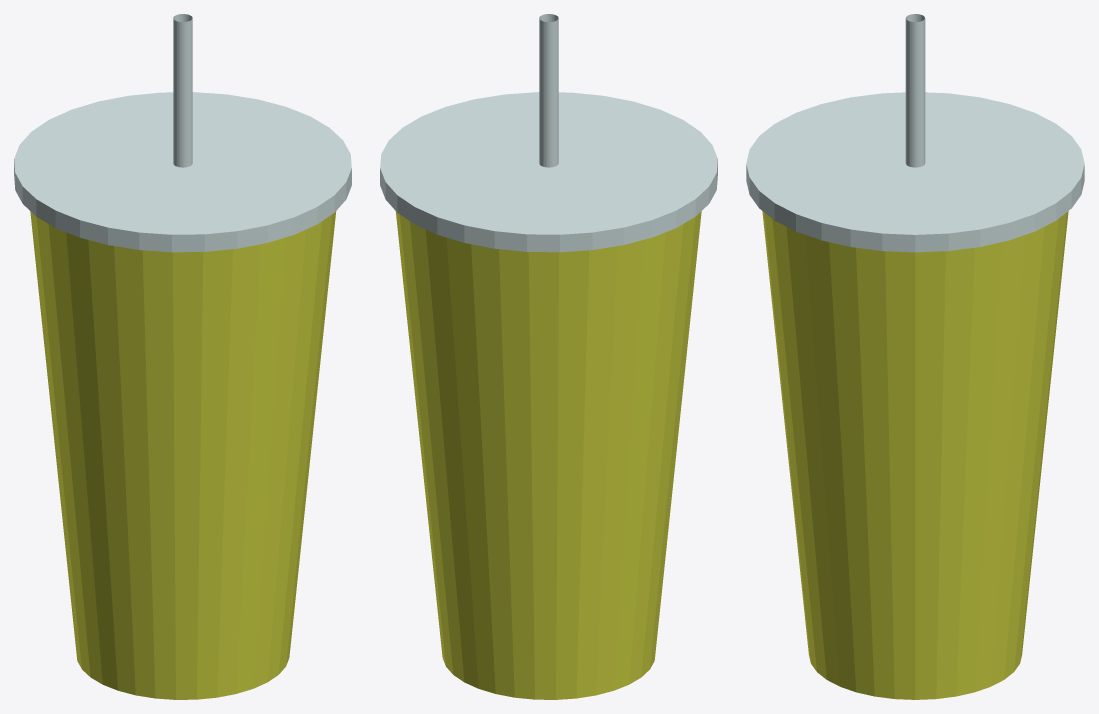
File: SodaMediana.glb
3 views of the same model, side by side, from view 1: azimuth 30°, elevation 25°; view 2: azimuth 150°, elevation 25°; view 3: azimuth 270°, elevation 25° (orthographic).
Parts seen in each view (by area): view 1: Cylinder, Cylinder.001, Cylinder.002; view 2: Cylinder, Cylinder.001, Cylinder.002; view 3: Cylinder, Cylinder.001, Cylinder.002.
Boxes of the visible parts, x1,y1,x2,y2 form: Cylinder: (30,211,336,699); Cylinder.001: (14,92,351,252); Cylinder.002: (173,14,192,167); Cylinder: (395,211,701,699); Cylinder.001: (380,92,717,252); Cylinder.002: (539,14,558,167); Cylinder: (762,211,1068,699); Cylinder.001: (746,92,1084,252); Cylinder.002: (905,14,925,167).
Bounding box in the file's own units: 1.4 × 2.91 × 1.4.
